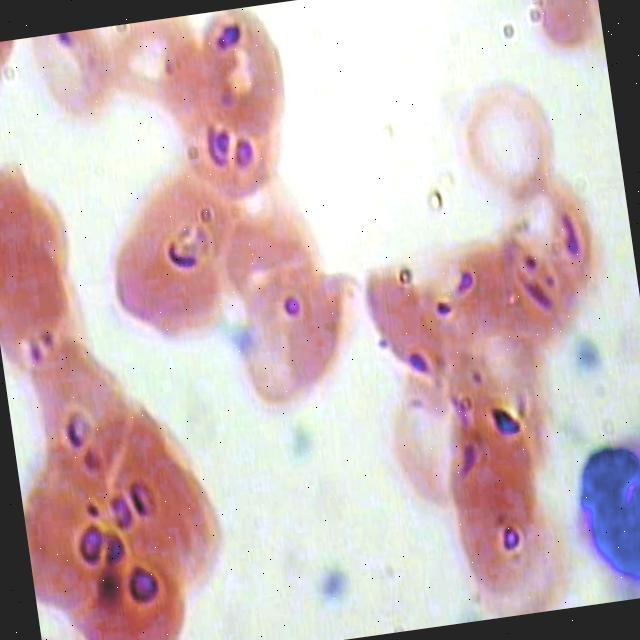Platelets: (306, 556, 362, 618)
RBC: (98, 192, 242, 354), (225, 259, 368, 421), (98, 450, 229, 608), (25, 343, 154, 503), (20, 468, 146, 624), (446, 453, 554, 614), (456, 69, 568, 217), (186, 2, 298, 144), (0, 241, 91, 384), (100, 14, 212, 128), (11, 27, 123, 140), (62, 544, 189, 640), (522, 0, 606, 68)
WBC: (551, 400, 640, 607)
